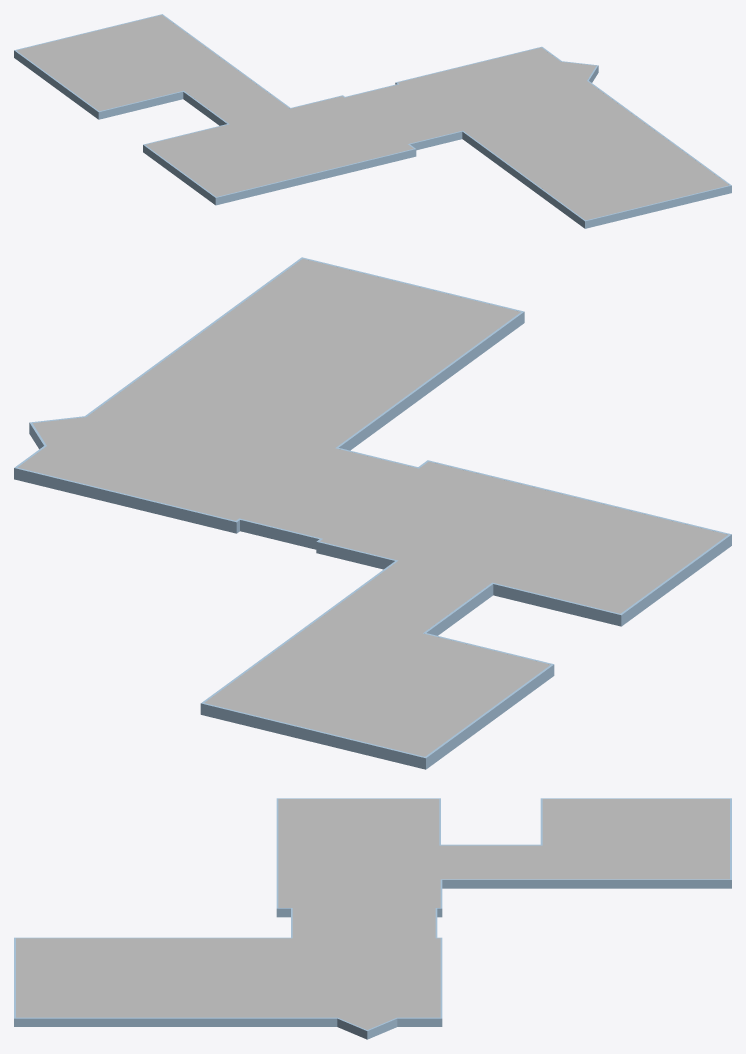
File: b-stage-1.glb
3 renders of one model, top to bottom at view 1: azimuth 30°, elevation 25°; view 2: azimuth 150°, elevation 25°; view 3: azimuth 270°, elevation 25°, orthographic. The views are drawn at different scales.
Parts seen in each view (by area): view 1: Geom3D (×2); view 2: Geom3D (×2); view 3: Geom3D (×2).
Boxes of the visible parts, bbox=[...] form: Geom3D (×2): bbox=[14, 14, 731, 228]; Geom3D (×2): bbox=[14, 257, 731, 769]; Geom3D (×2): bbox=[14, 798, 731, 1039].
Bounding box in the file's own units: 29.45 × 0.501 × 38.35.
